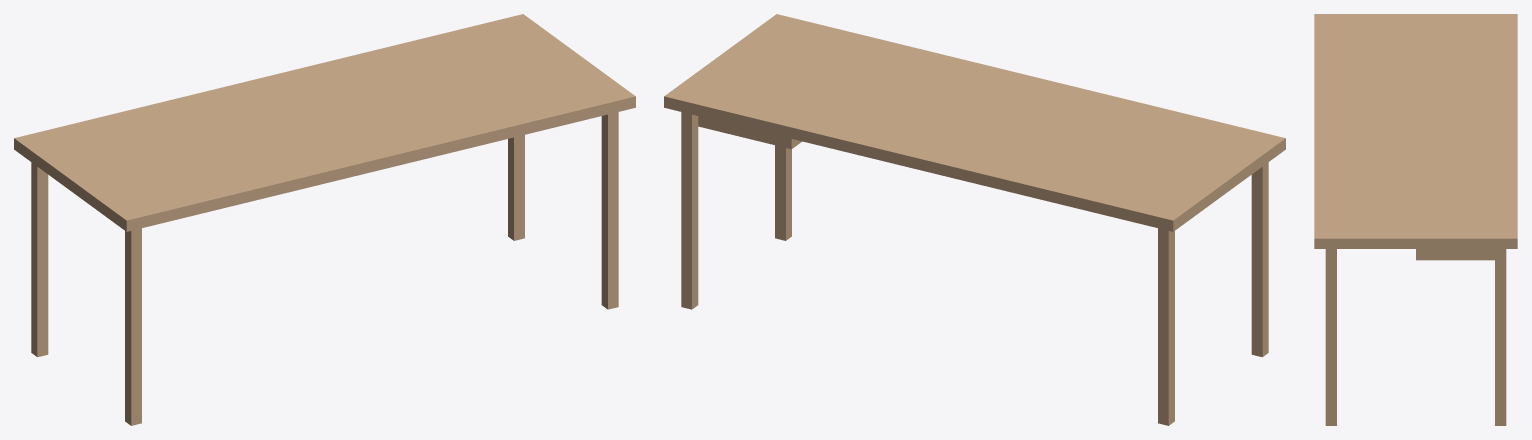
Rendered from desk_09.glb.
3 views of the same model, side by side, from view 1: azimuth 30°, elevation 25°; view 2: azimuth 150°, elevation 25°; view 3: azimuth 270°, elevation 25° (orthographic). The views are drawn at different scales.
Bounding box in the file's own units: 1.88 × 0.75 × 0.72.
